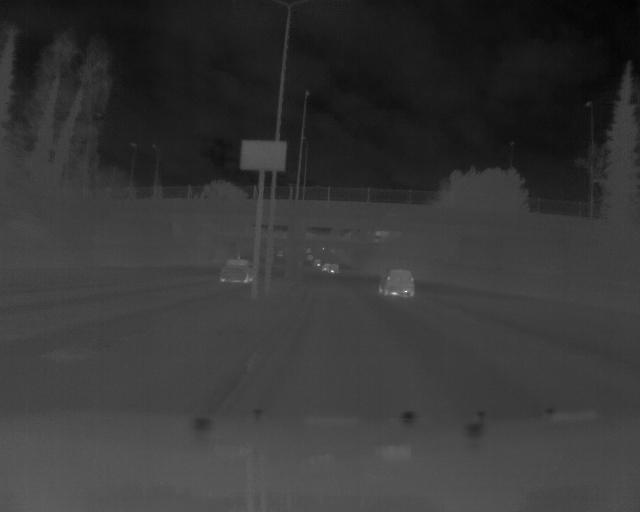car: (378, 268, 416, 301), (220, 256, 252, 288)
